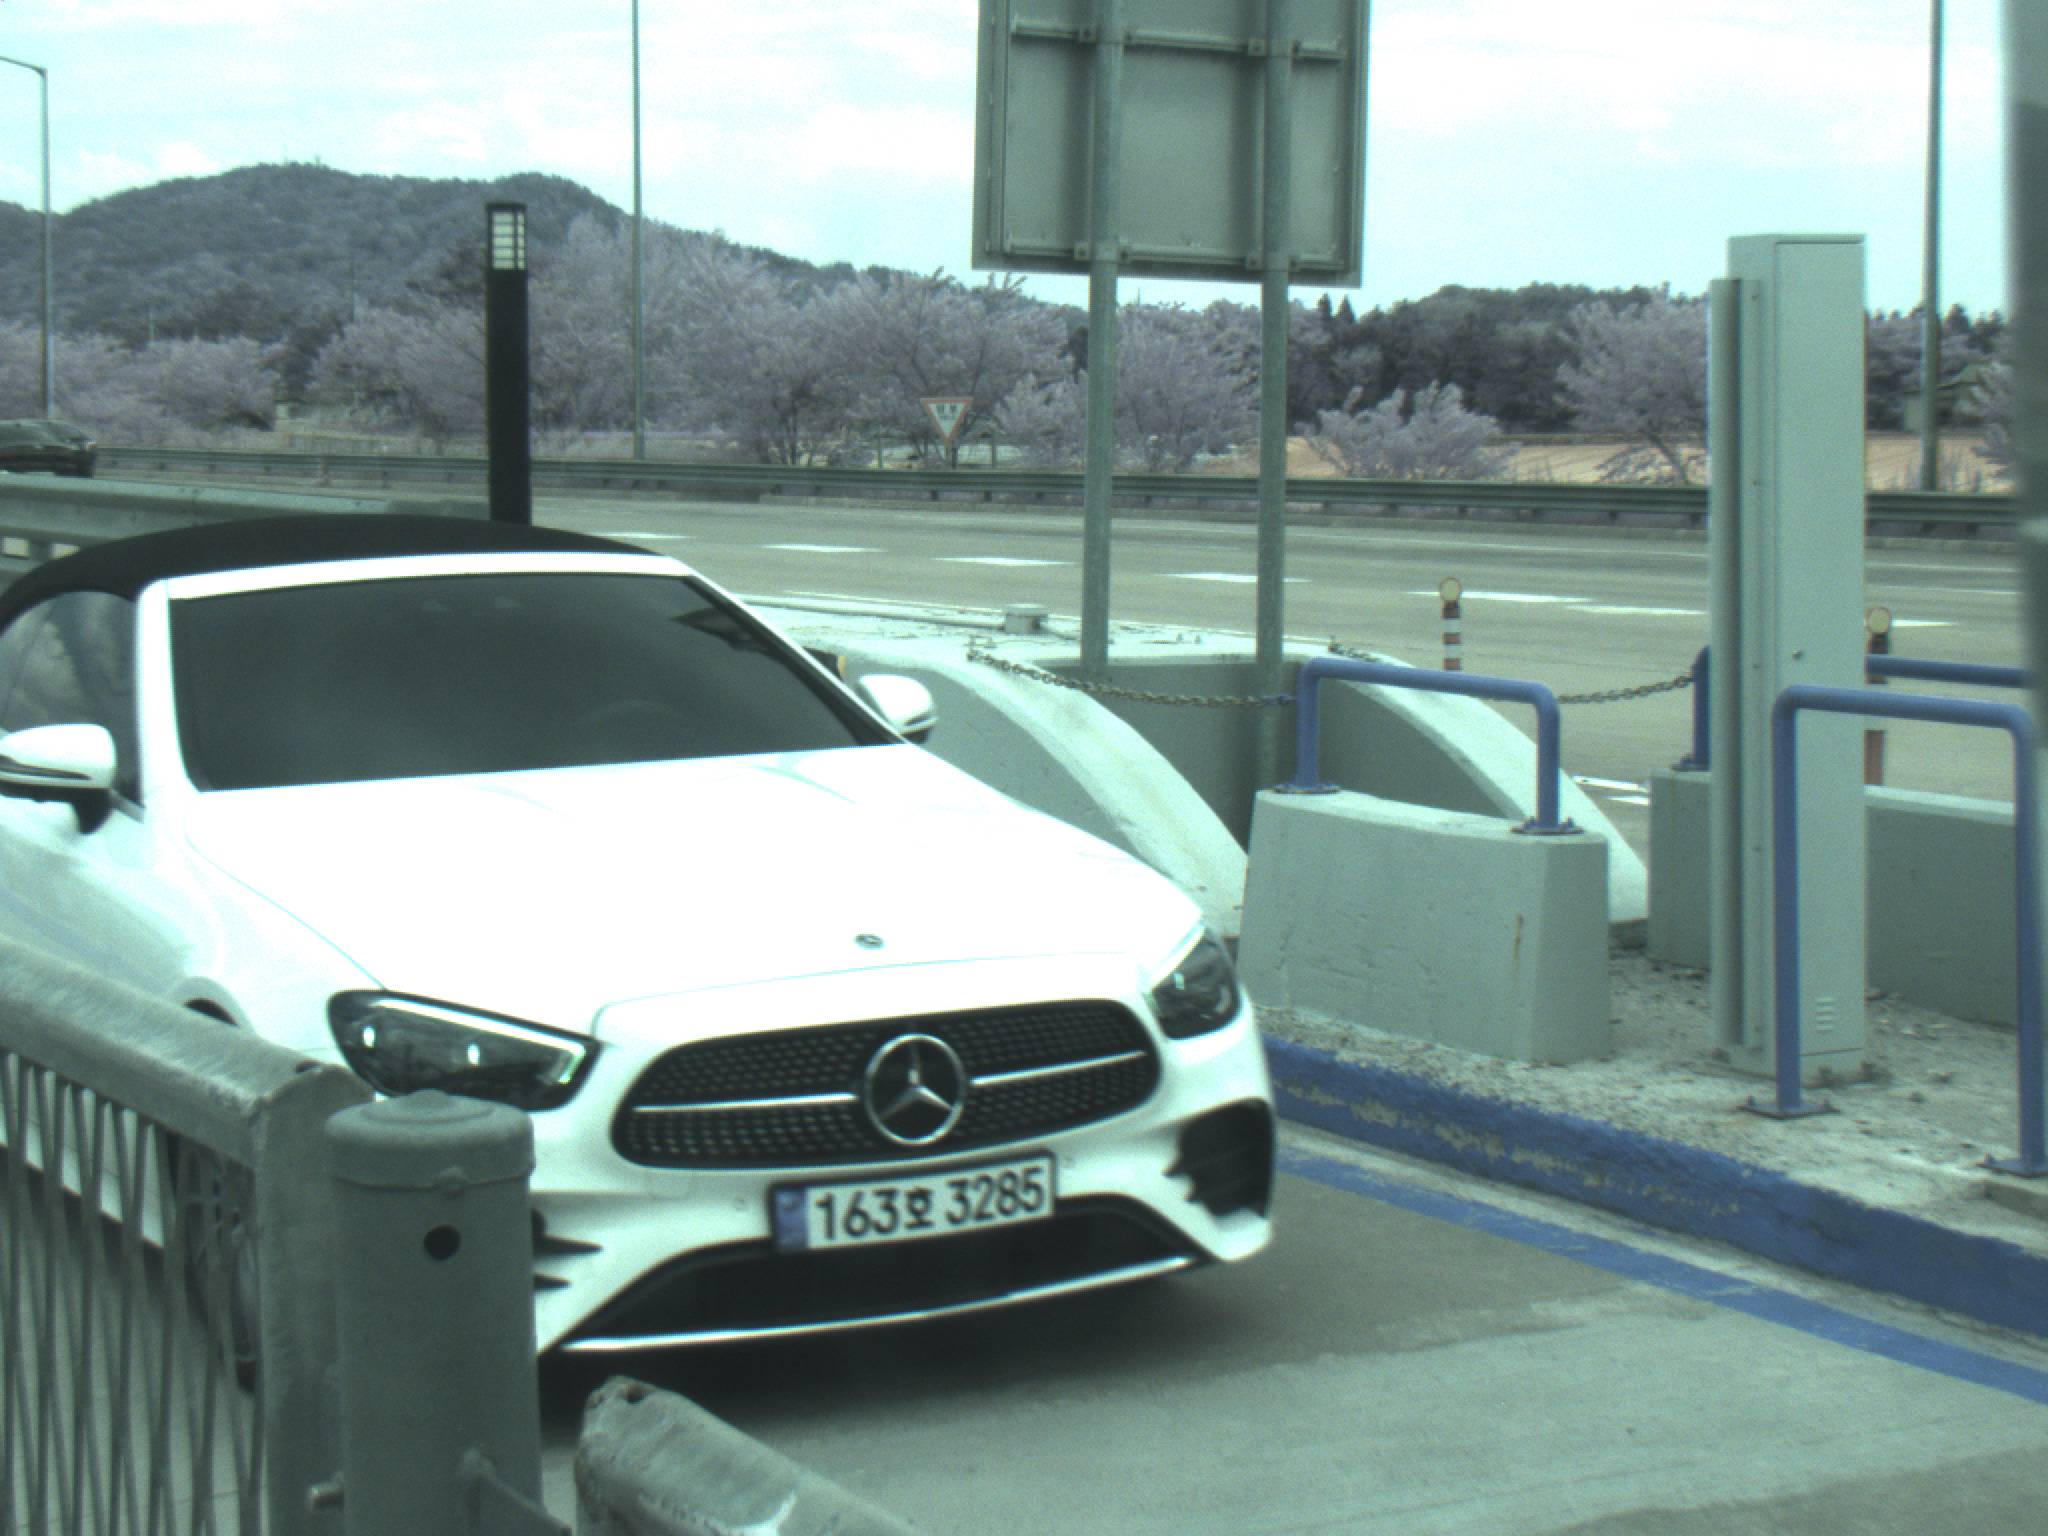car: (1, 504, 1287, 1413)
plate: (765, 1145, 1065, 1257)
